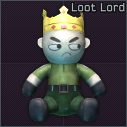Loot Lord plushie: (0, 0, 127, 127)
